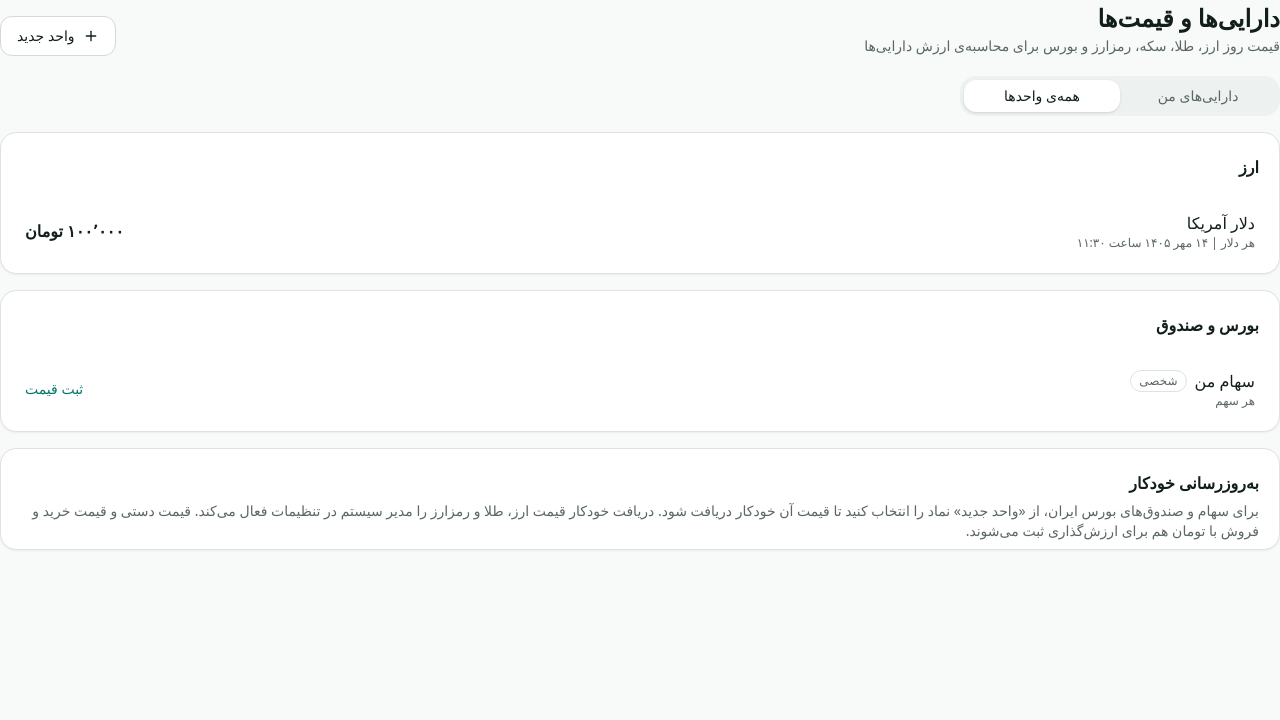
it: Iranian securities › links an existing security and updates the open price dialog from the refreshed commodity
This screenshot has width=1280, height=720.
Step 1. Click the text "سهام من" → (1193, 381), box top-left (1130, 369), bottom-right (1255, 393)
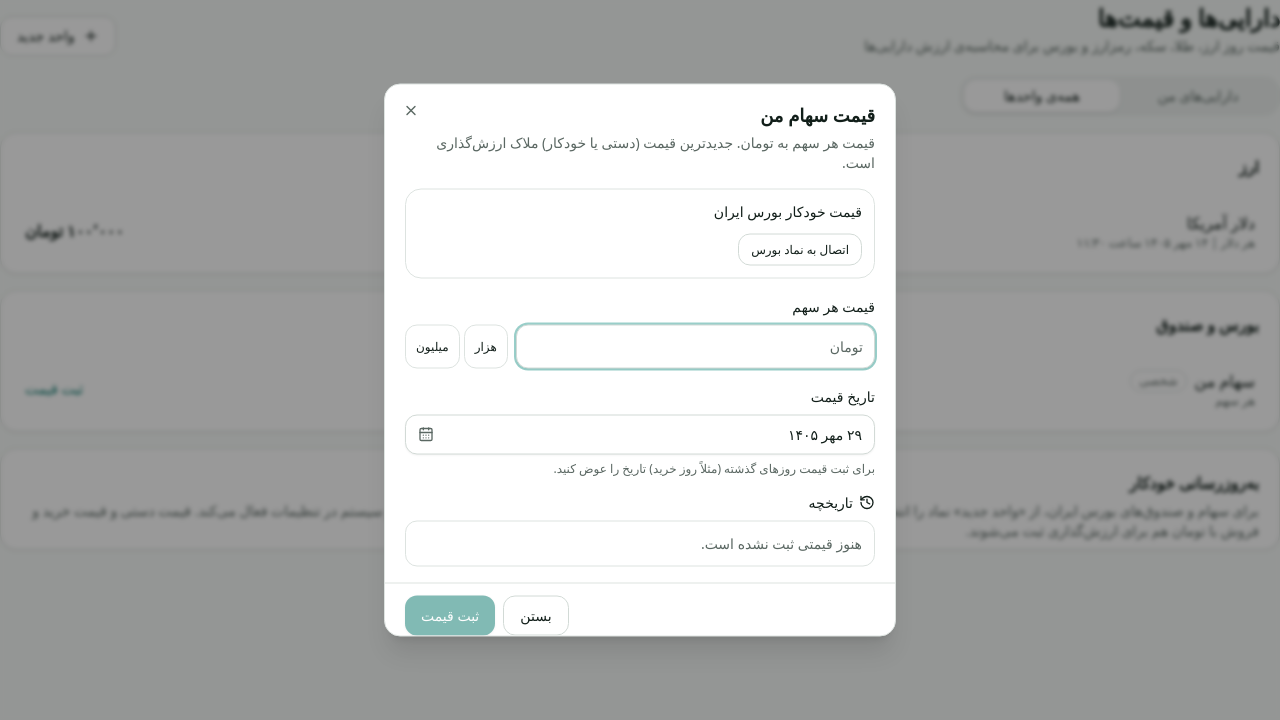
Step 2. Click the button "اتصال به نماد بورس" → (800, 250), box top-left (738, 234), bottom-right (862, 266)
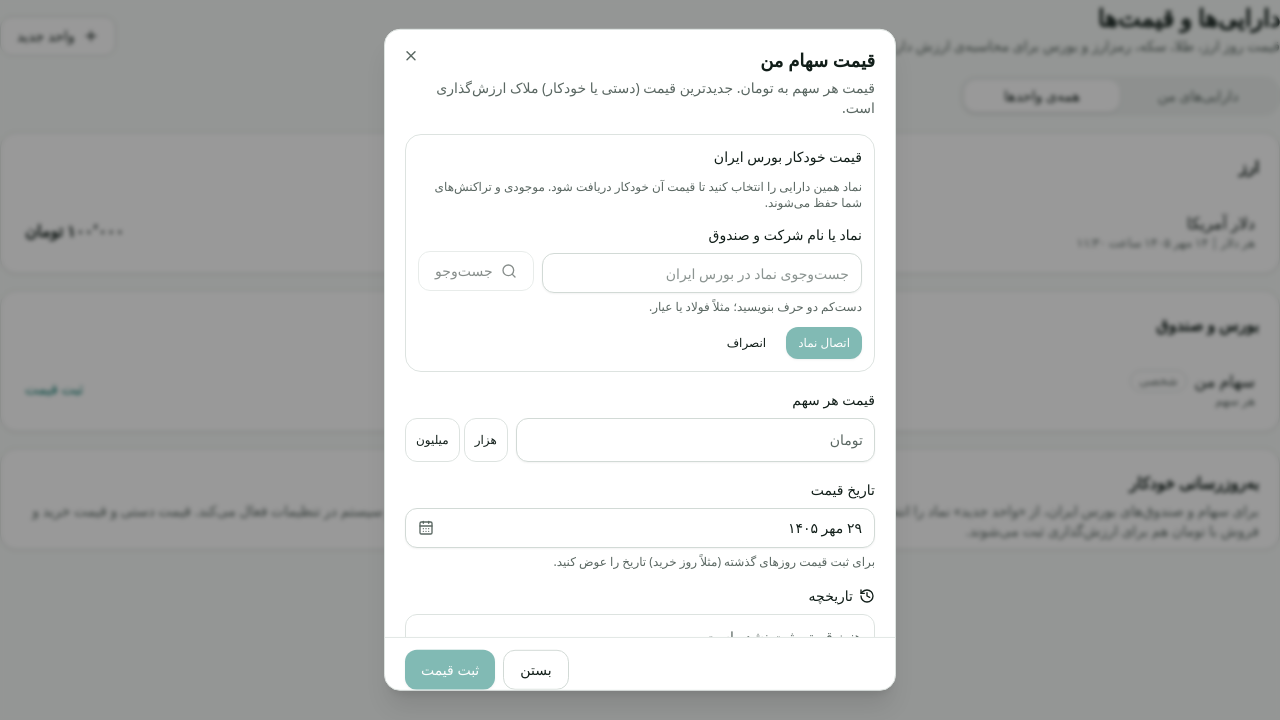
Step 3. Type "فولاد" into the field labelled "نماد یا نام شرکت و صندوق" → (702, 273), box top-left (542, 253), bottom-right (862, 293)
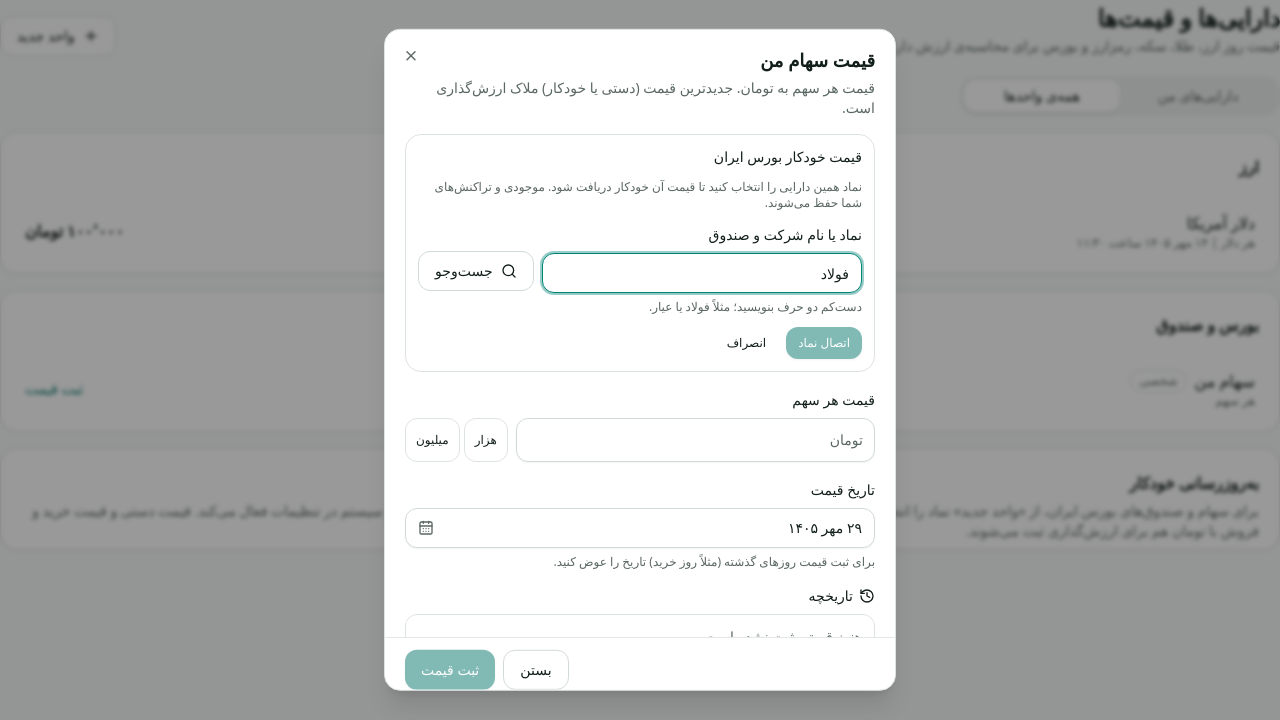
Step 4. Click the button "جست‌وجو" → (476, 271), box top-left (418, 251), bottom-right (534, 291)
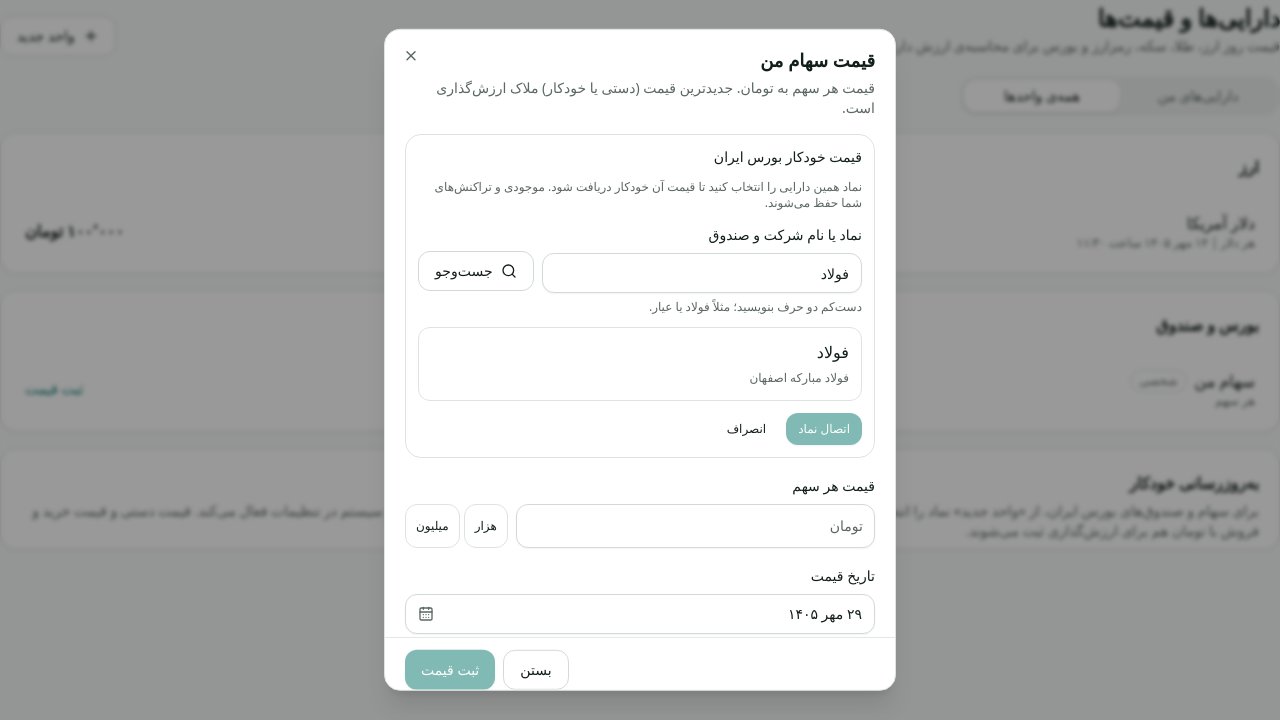
Step 5. Click the radio button labelled "فولاد فولاد مبارکه اصفهان" → (833, 352), box top-left (419, 328), bottom-right (861, 400)
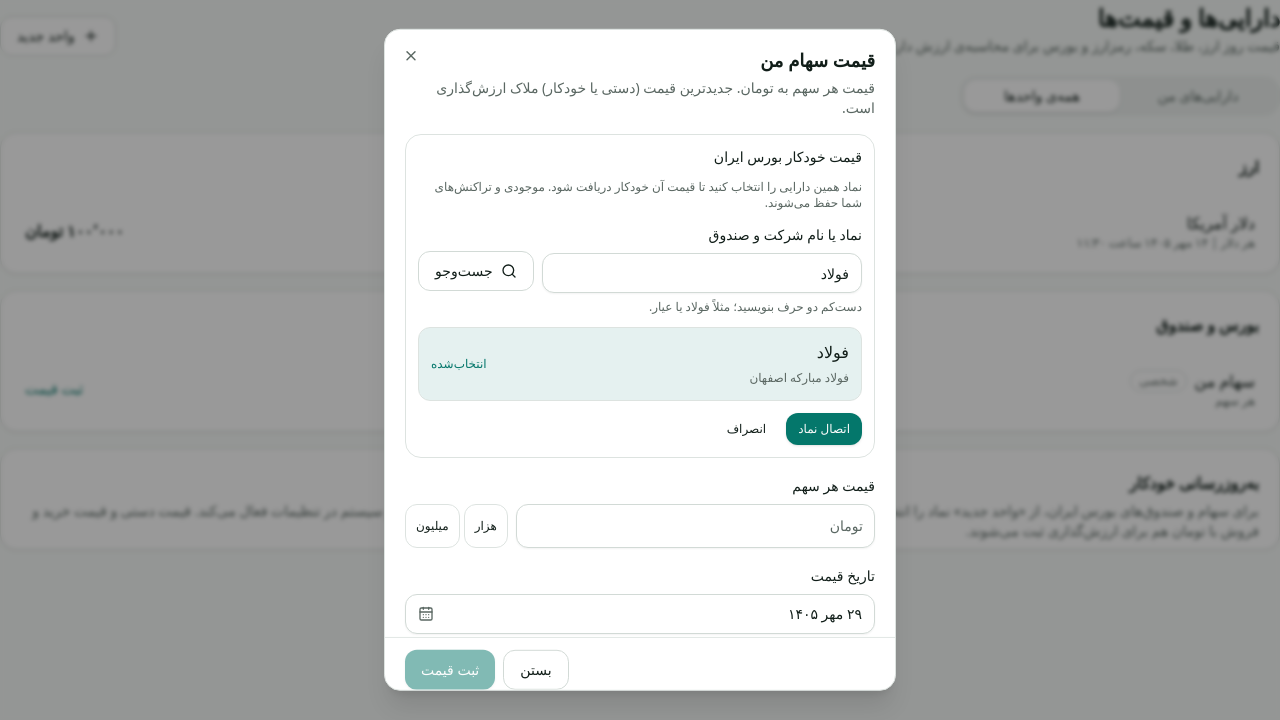
Step 6. Click the button "اتصال نماد" → (824, 429), box top-left (786, 413), bottom-right (862, 445)
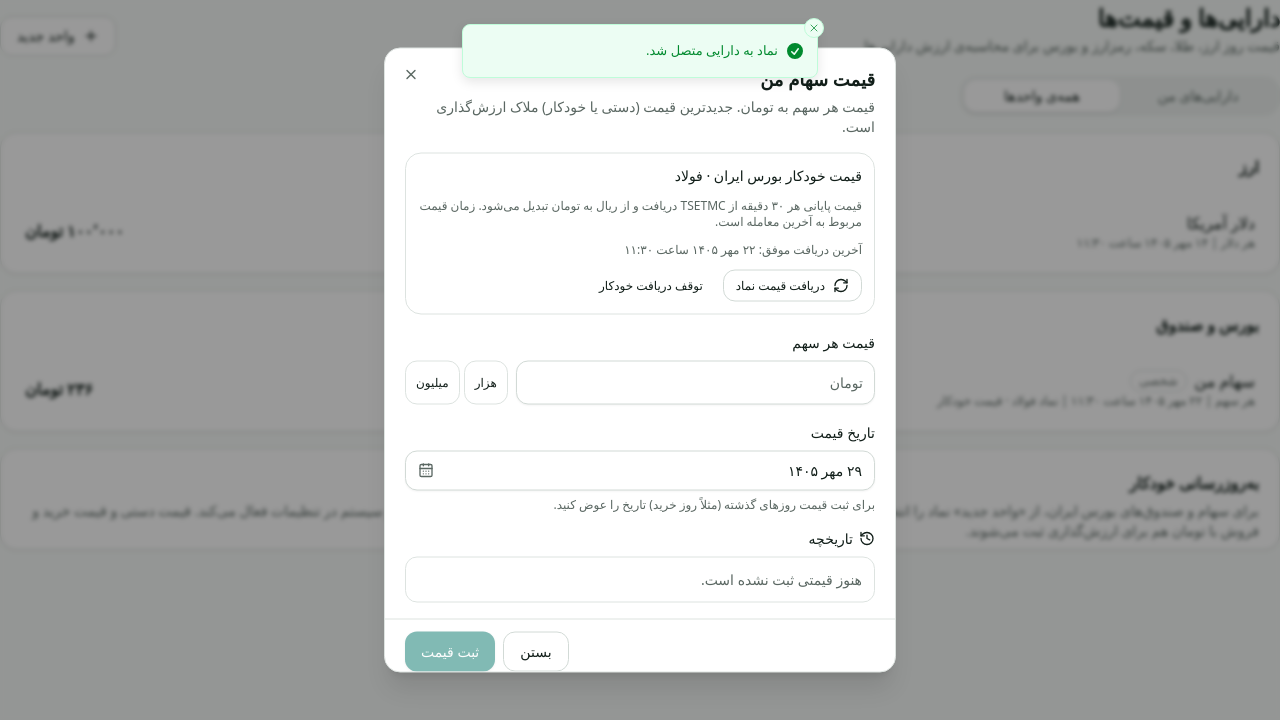
Expected: the text "قیمت خودکار بورس ایران · فولاد" is shown, top-left (675, 166), bottom-right (862, 184)
Expected: the button "دریافت قیمت نماد" is shown, top-left (723, 270), bottom-right (862, 302)
